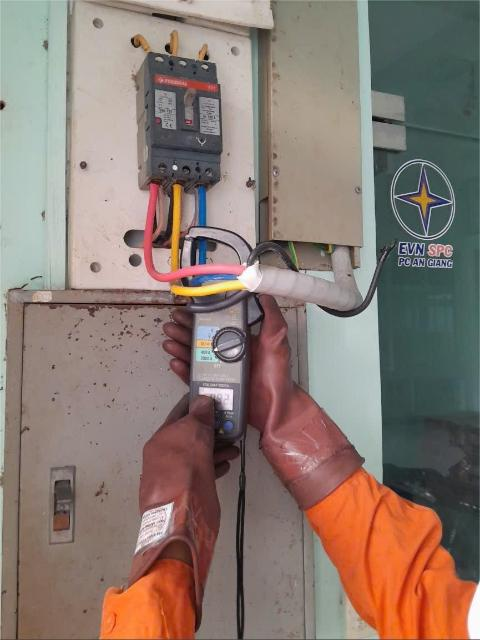gloves: (166, 296, 389, 503), (105, 371, 231, 624)
